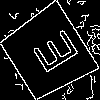E: (23, 27, 80, 81)
